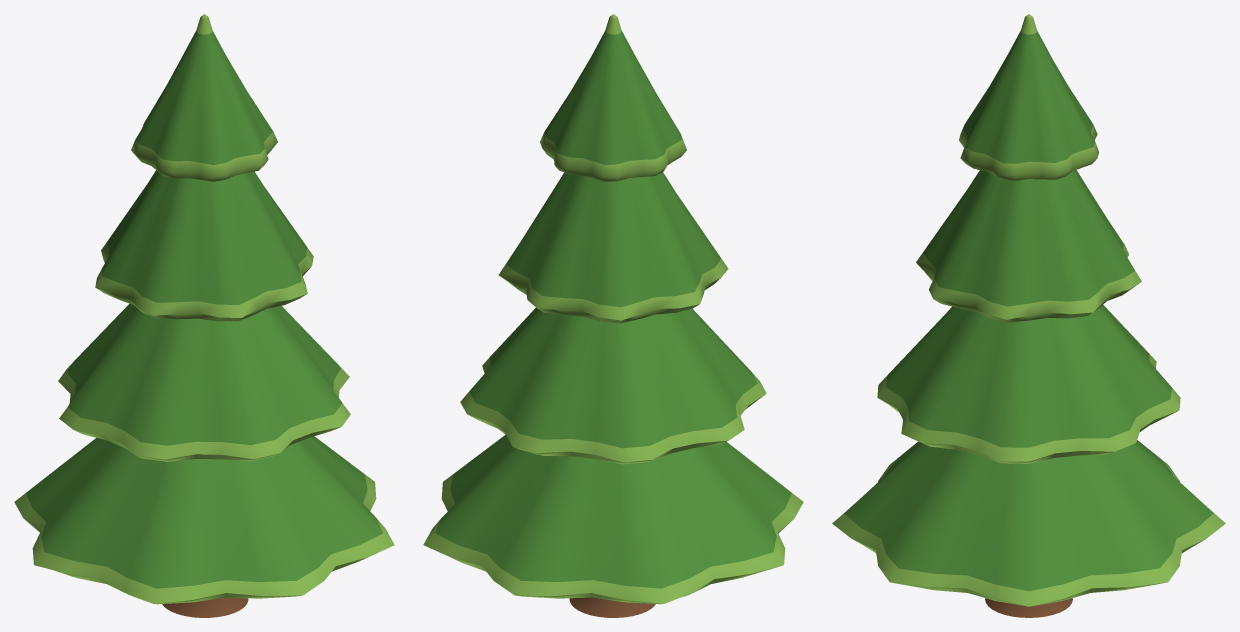
The model's file is PineTree_01.glb.
3 renders of one model, left to right at view 1: azimuth 30°, elevation 25°; view 2: azimuth 150°, elevation 25°; view 3: azimuth 270°, elevation 25°, orthographic.
Visible parts, largest first — view 1: PineTree_01; view 2: PineTree_01; view 3: PineTree_01.
Part boxes in pixels (bbox=[...]): PineTree_01: bbox=[14, 14, 394, 617]; PineTree_01: bbox=[423, 14, 803, 617]; PineTree_01: bbox=[832, 14, 1225, 617].
Bounding box in the file's own units: 6.2 × 10.16 × 6.2.
